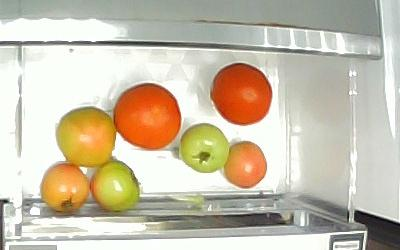tomato: (114, 83, 182, 152), (210, 61, 272, 126), (56, 105, 115, 167), (38, 161, 90, 214), (89, 159, 140, 212), (180, 123, 229, 174), (222, 141, 268, 189)
